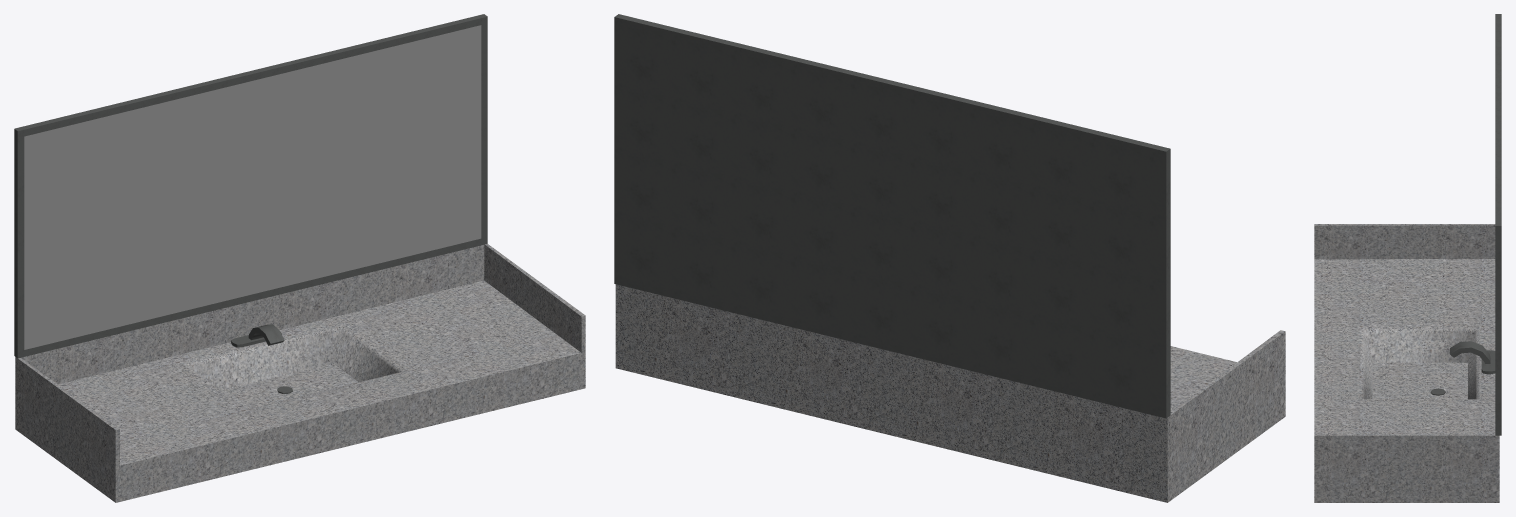
Rendered from VanityMirror.FBX.
3 views of the same model, side by side, from view 1: azimuth 30°, elevation 25°; view 2: azimuth 150°, elevation 25°; view 3: azimuth 270°, elevation 25° (orthographic). The views are drawn at different scales.
Visible parts, largest first — view 1: VanityMirror2; view 2: VanityMirror2; view 3: VanityMirror2.
Part boxes in pixels (left/top/right/bottom): VanityMirror2: left=14, top=14, right=585, bottom=502; VanityMirror2: left=614, top=14, right=1285, bottom=502; VanityMirror2: left=1314, top=14, right=1501, bottom=502.
Bounding box in the file's own units: 90.15 × 55.19 × 33.74.
